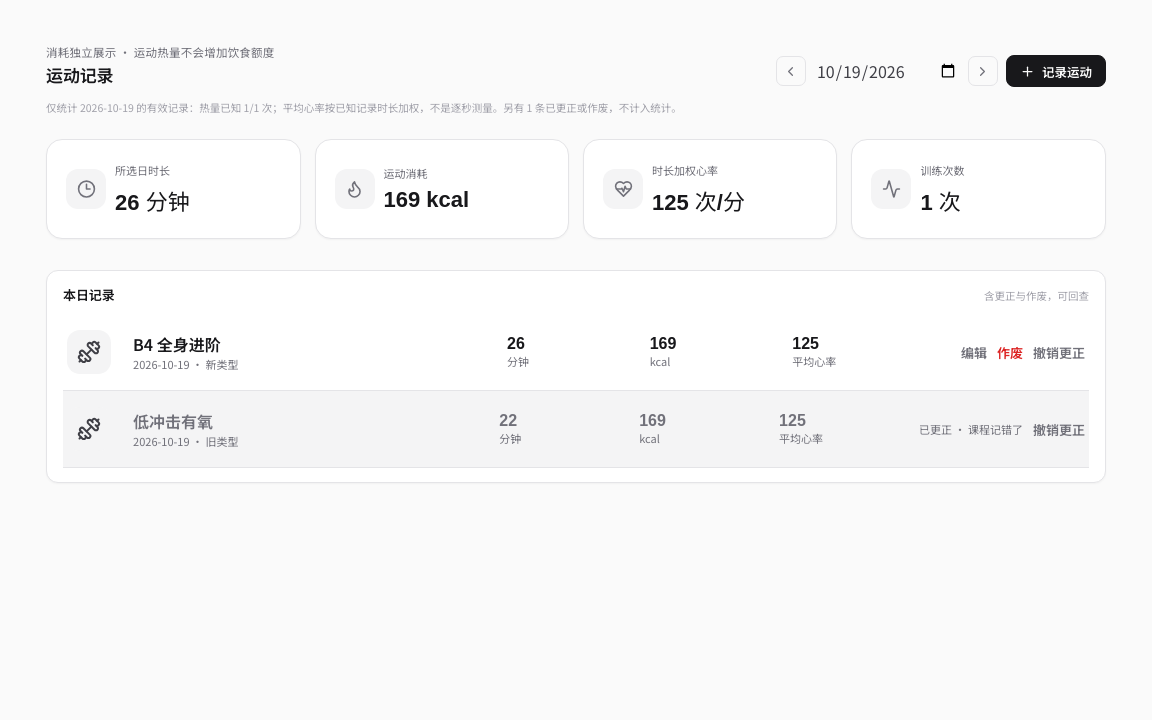
undoes a correction and puts the parent values back
Expected: the element with class "metric-card" shows "26 分钟", x1=115 y1=190 x2=190 y2=215
Click the button "撤销更正" in the row of "新类型" at (1059, 352), box x1=1033 y1=343 x2=1085 y2=362
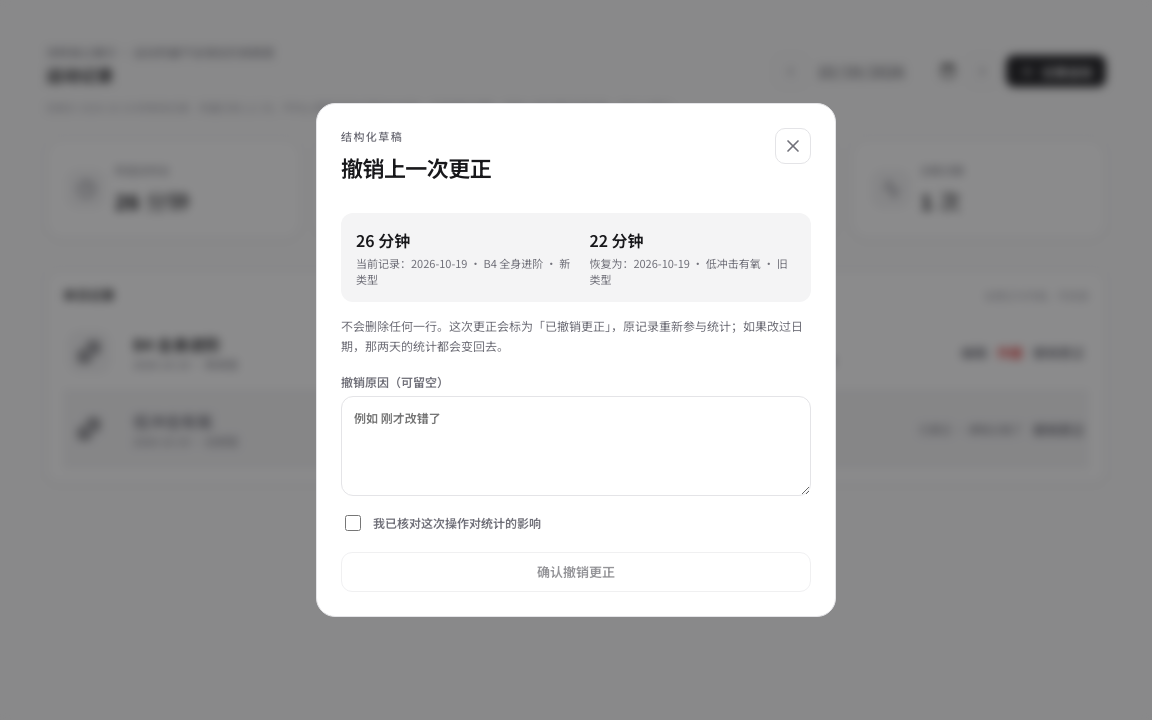
Expected: the dialog with class "modal" shows "恢复为", x1=589 y1=255 x2=633 y2=271
Expected: the dialog with class "modal" shows "低冲击有氧", x1=706 y1=255 x2=761 y2=271
Expected: the button "确认撤销更正" is disabled, x1=341 y1=552 x2=811 y2=592
Click the checkbox labelled "我已核对这次操作对统计的影响" at (353, 523), box x1=345 y1=515 x2=361 y2=531
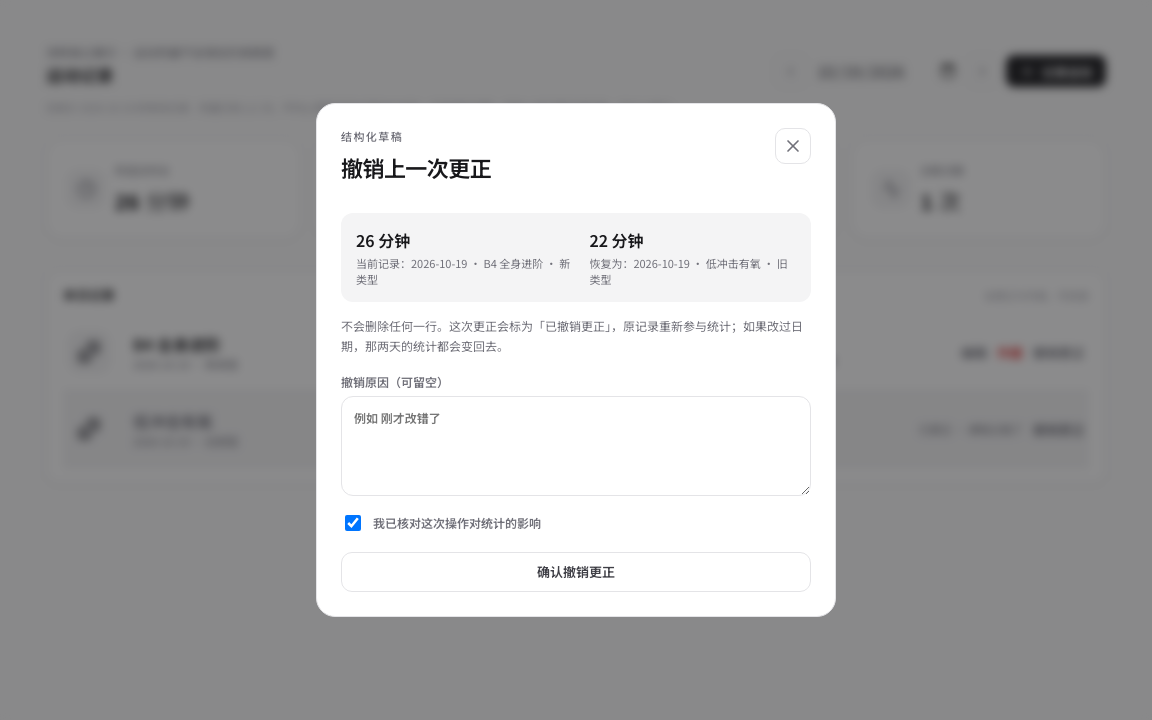
Expected: the button "确认撤销更正" is enabled
Click the button "确认撤销更正" at (576, 572), box x1=341 y1=552 x2=811 y2=592
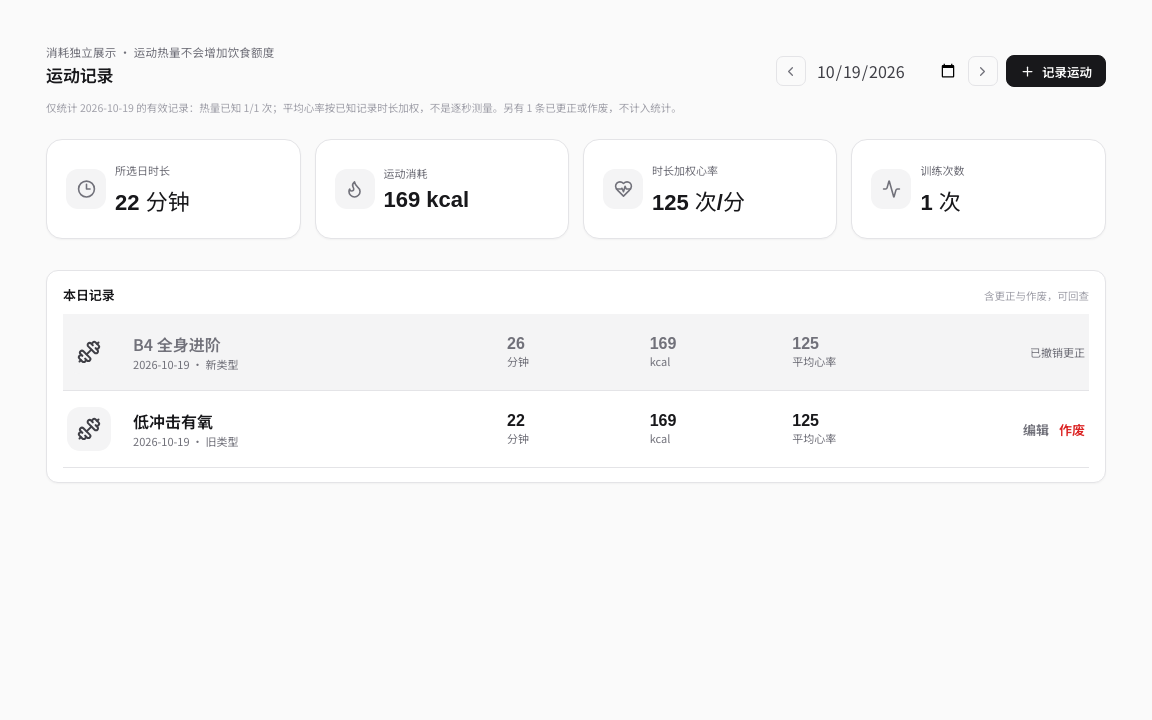
Expected: the element with class "metric-card" shows "22 分钟", x1=115 y1=190 x2=190 y2=215
Expected: the element with class "workout-row" shows "已撤销更正", x1=1030 y1=344 x2=1085 y2=360
